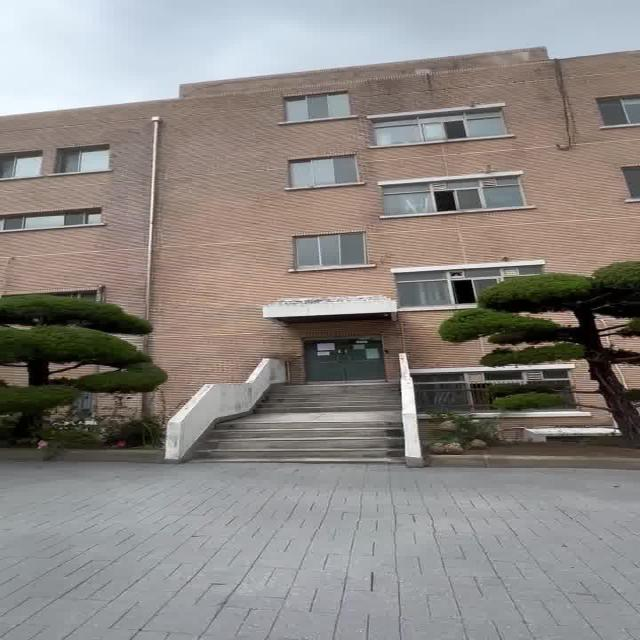building: (41, 65, 475, 441)
